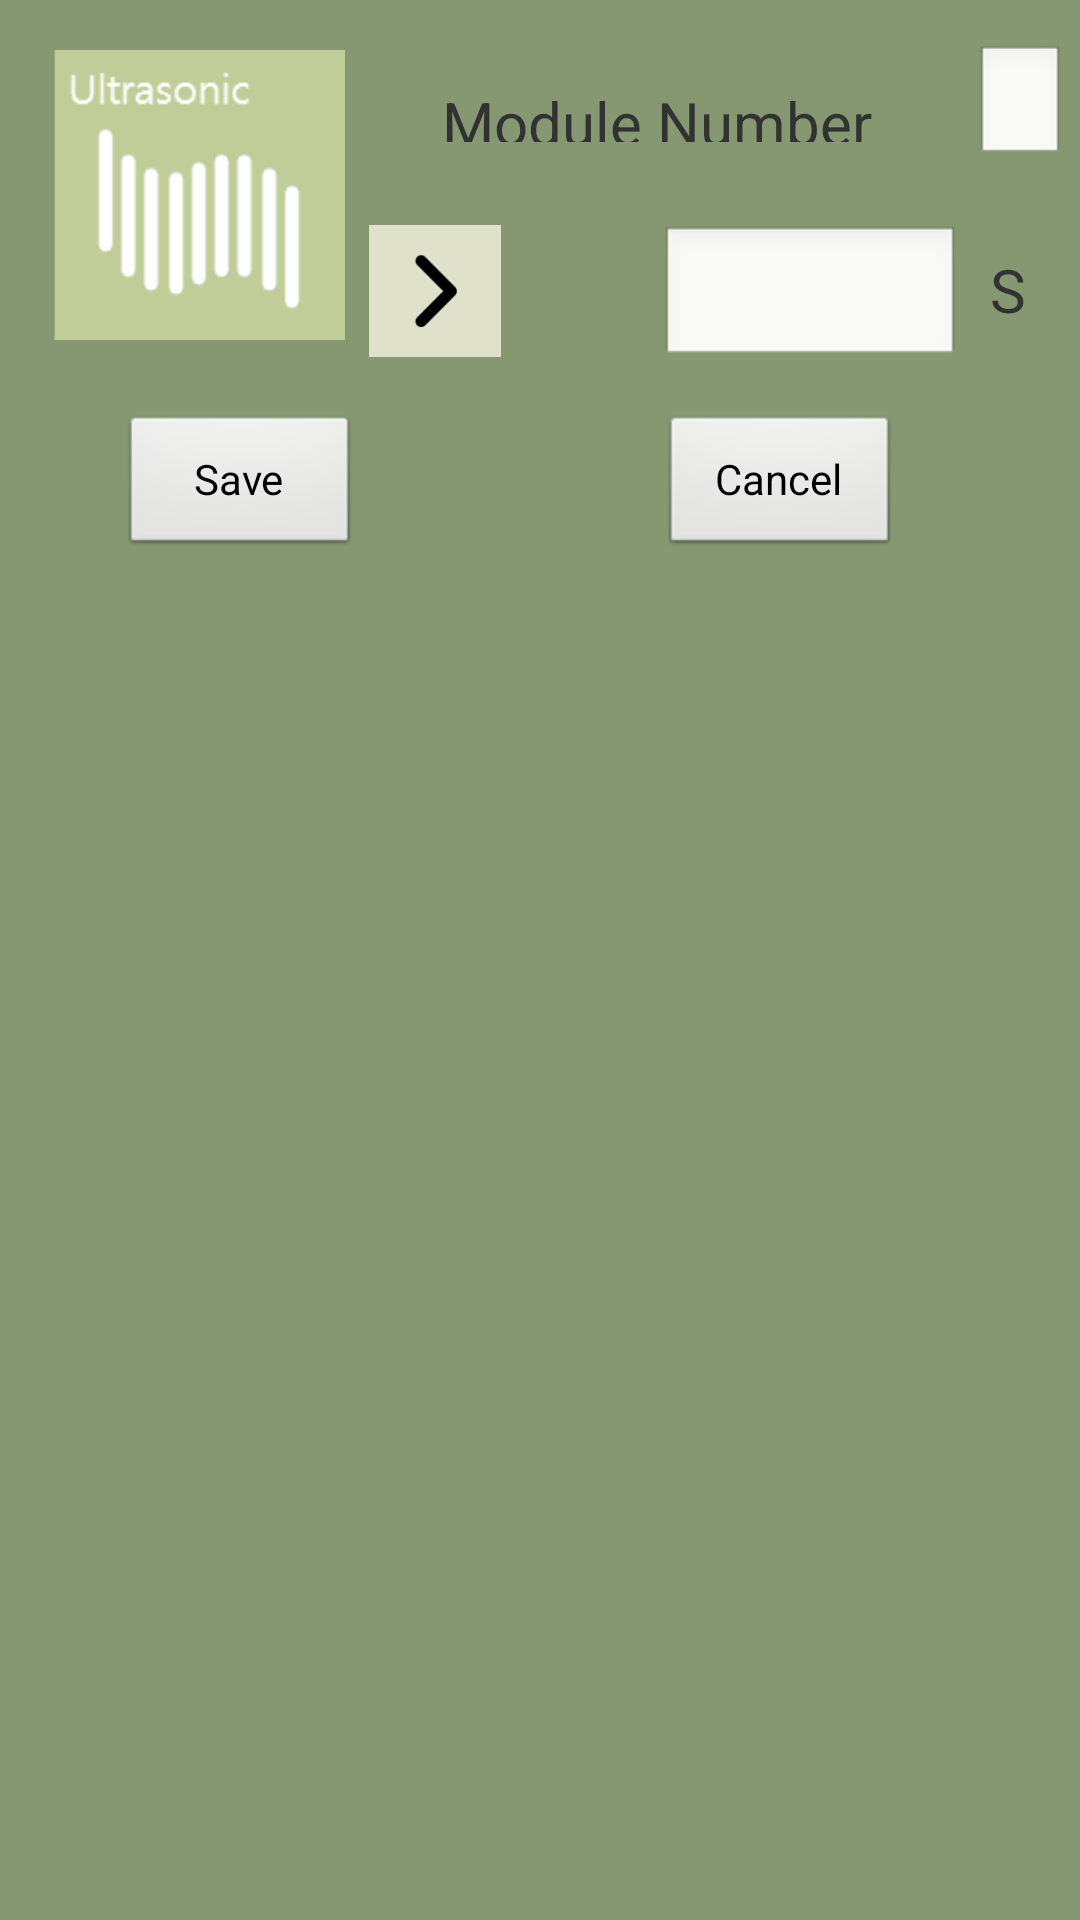

Where to tap for icons on this 1080x1920 app screen, as (x=x, y=y):
more: (x=435, y=291)
